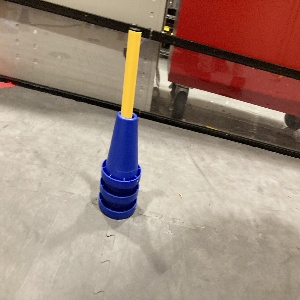Blue_3: (99, 112, 138, 216)
